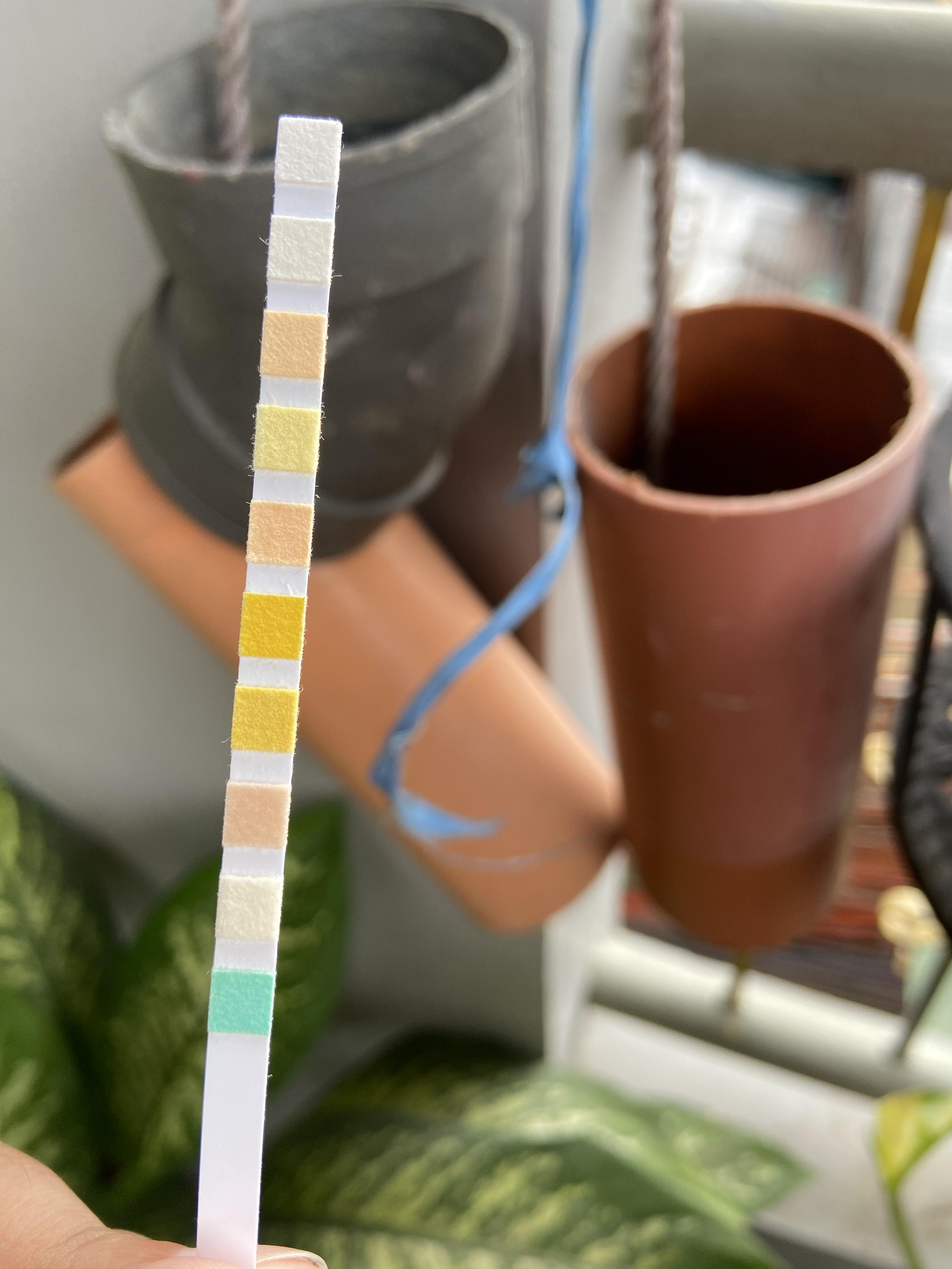Bilirubin: (219, 878, 278, 938)
Blood: (243, 597, 300, 656)
Glucose: (212, 972, 272, 1031)
Ketone: (227, 785, 287, 842)
Leukocytes: (278, 123, 339, 182)
Nitrite: (271, 221, 331, 279)
Protein: (257, 410, 317, 469)
SpGravity: (235, 690, 294, 749)
Urobilinogen: (264, 317, 324, 375)
pH: (250, 505, 310, 560)
strip: (197, 115, 342, 1226)
